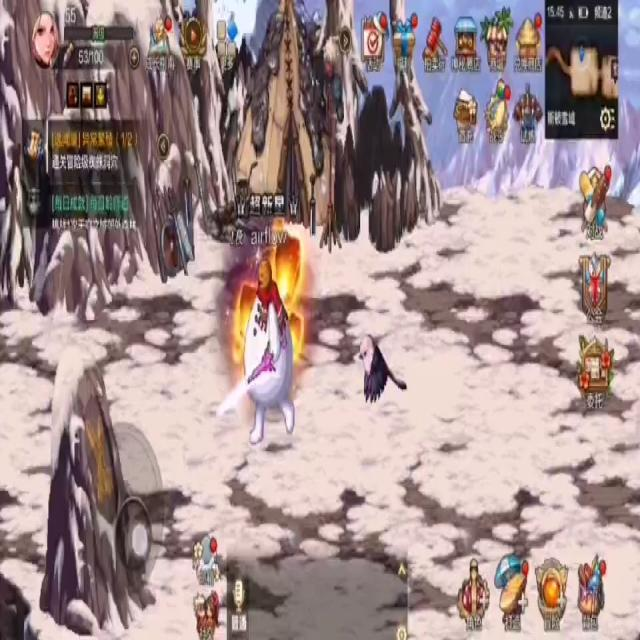player: (239, 253, 300, 449)
